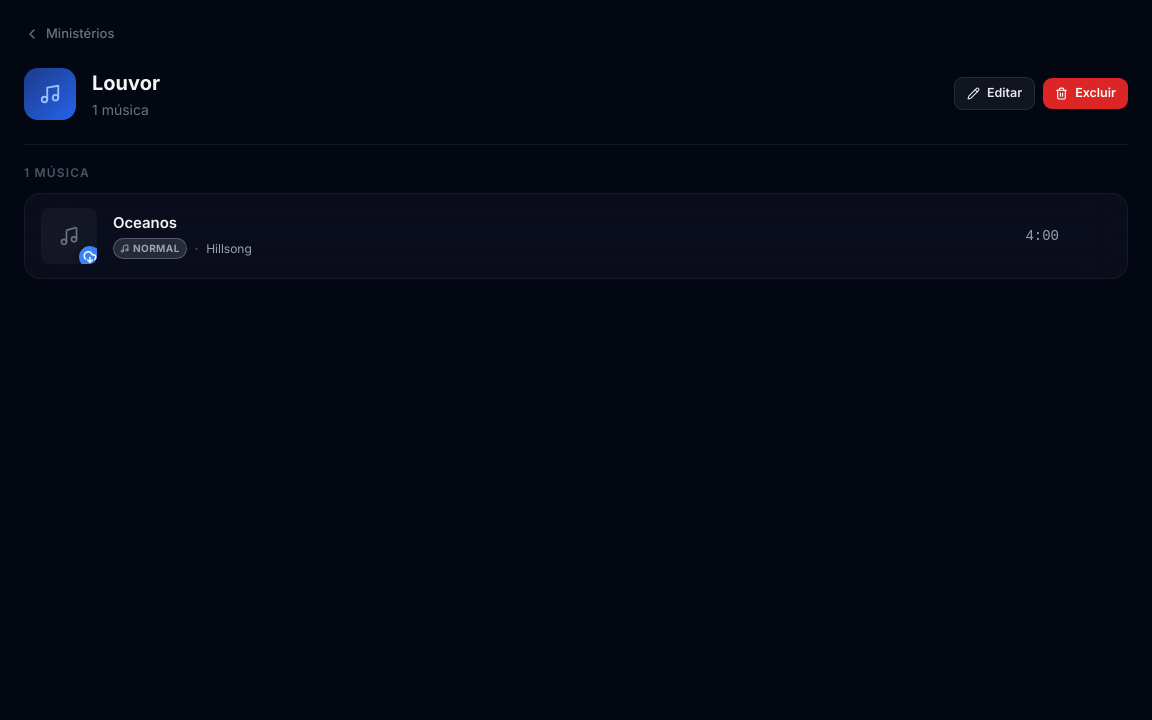
GroupDetail › botão Editar abre modal de edição com nome pré-preenchido
Expected: the heading "Louvor" is shown, x1=92 y1=70 x2=160 y2=94
Step 1. Click the button "Editar" → (995,94), box x1=954 y1=77 x2=1035 y2=110
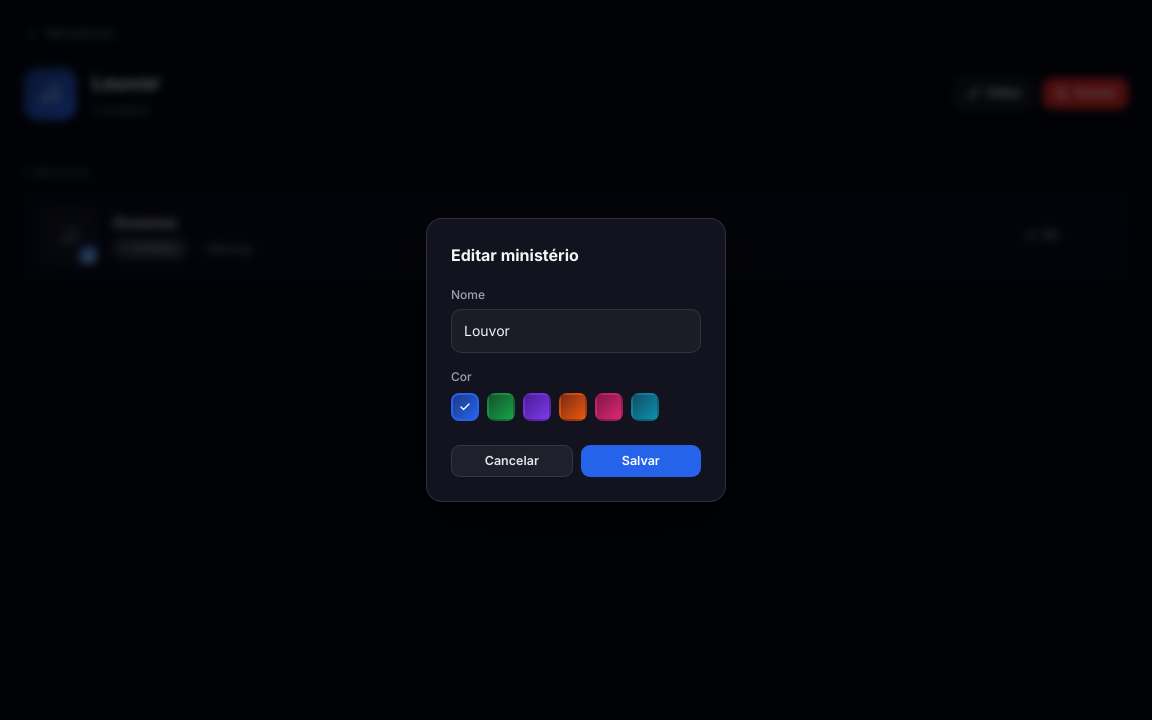
Expected: the heading "Editar ministério" is shown, x1=451 y1=245 x2=579 y2=265
Expected: the field holds "Louvor", x1=451 y1=309 x2=701 y2=353
